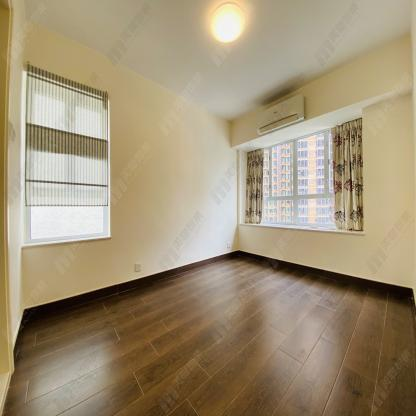AC: (255, 93, 305, 136)
Windowsill: (231, 101, 364, 235)
